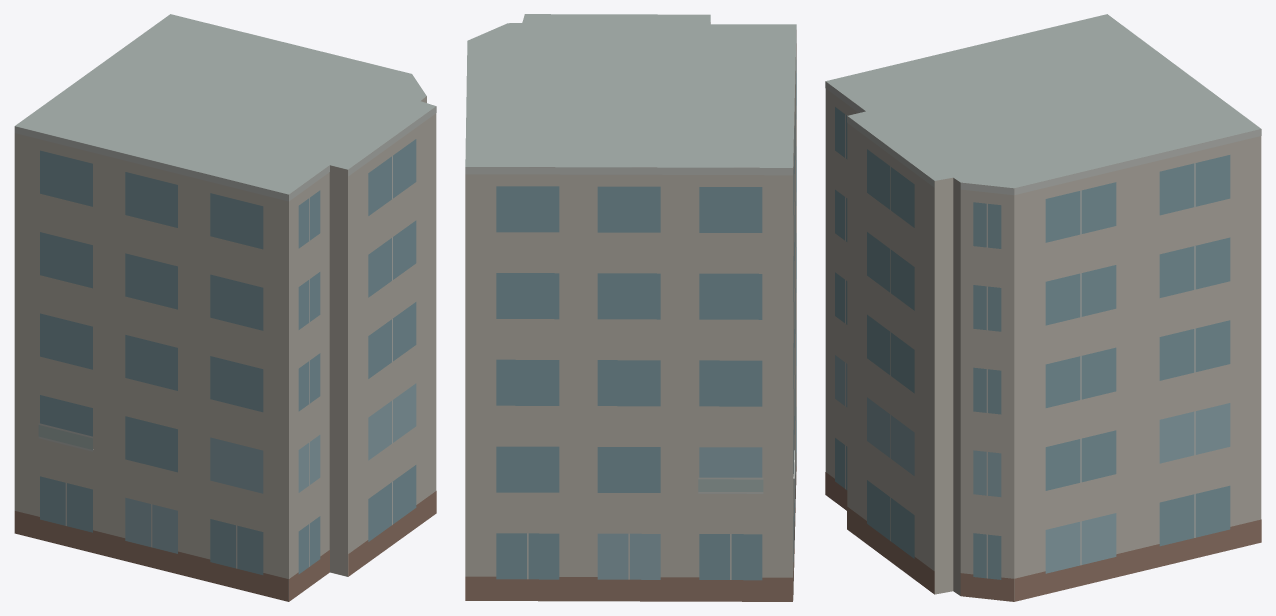
Rendered from survey-upis-32964469.glb.
3 renders of one model, left to right at view 1: azimuth 30°, elevation 25°; view 2: azimuth 150°, elevation 25°; view 3: azimuth 270°, elevation 25°, orthographic. The views are drawn at different scales.
Parts seen in each view (by area): view 1: survey-upis-32964469.tmp; view 2: survey-upis-32964469.tmp; view 3: survey-upis-32964469.tmp.
Part boxes in pixels (x1,y1,x2,y2): survey-upis-32964469.tmp: [14, 14, 436, 601]; survey-upis-32964469.tmp: [465, 14, 796, 601]; survey-upis-32964469.tmp: [825, 14, 1261, 601].
Size of the model in its own units: 13.02 by 14.4 by 13.77.
